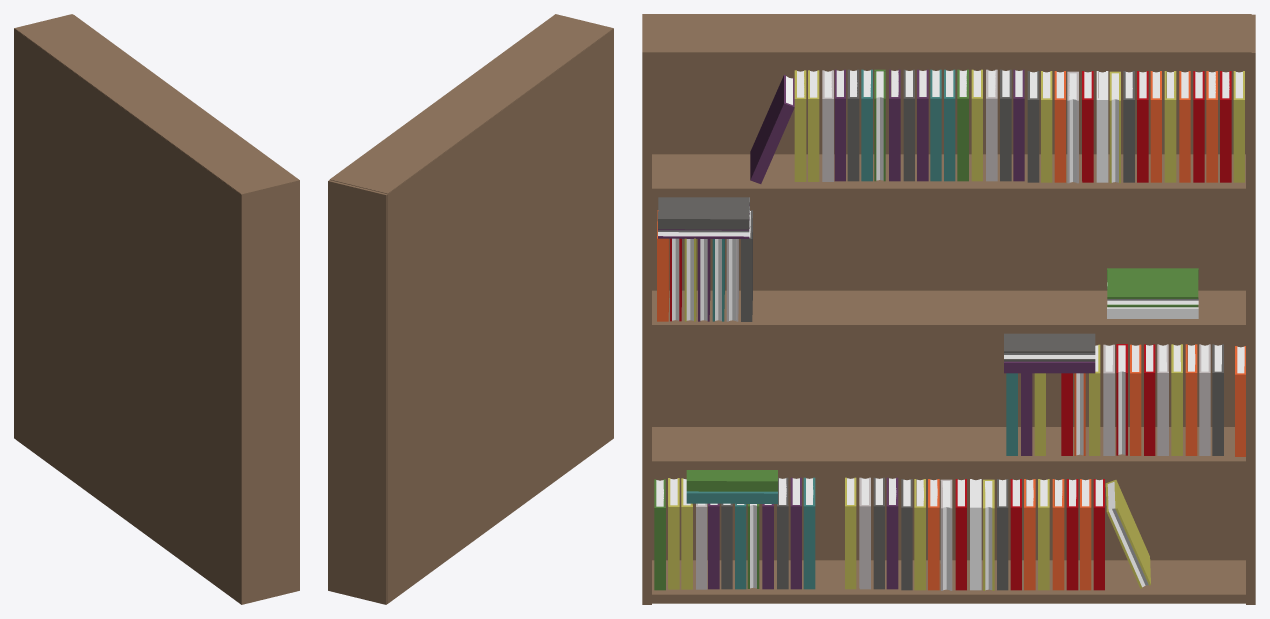
3 renders of one model, left to right at view 1: azimuth 30°, elevation 25°; view 2: azimuth 150°, elevation 25°; view 3: azimuth 270°, elevation 25°, orthographic. The views are drawn at different scales.
Visible parts, largest first — view 1: Cube.046; view 2: Cube.046; view 3: Cube.046, Cube.001, Cube.000, Cube.005, Cube.003, Cube.007, Cube.008, Cube.004, Cube.002, Cube.006.
Boxes of the visible parts, x1,y1,x2,y2 form: Cube.046: (14,14,299,604); Cube.046: (328,14,613,604); Cube.046: (642,14,1255,604); Cube.001: (656,70,1244,590); Cube.000: (668,69,1244,590); Cube.005: (658,69,1223,590); Cube.003: (658,69,1095,589); Cube.007: (657,71,1245,590); Cube.008: (670,71,1231,590); Cube.004: (696,69,1210,590); Cube.002: (654,69,1198,590); Cube.006: (686,69,1017,589).
Size of the model in its own units: 87.43 by 588 by 591.
